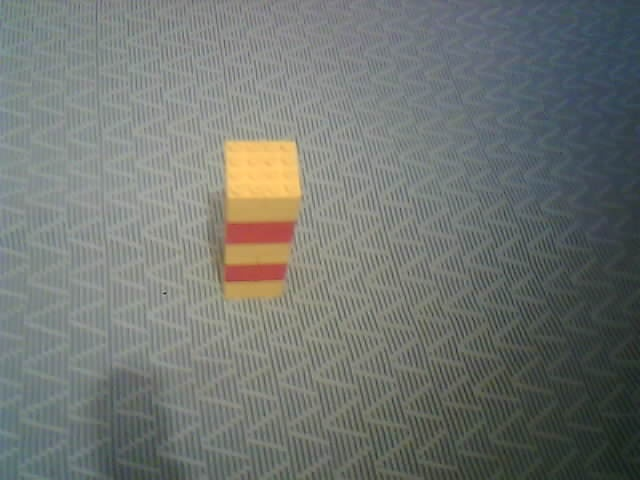lego: (220, 138, 302, 300)
